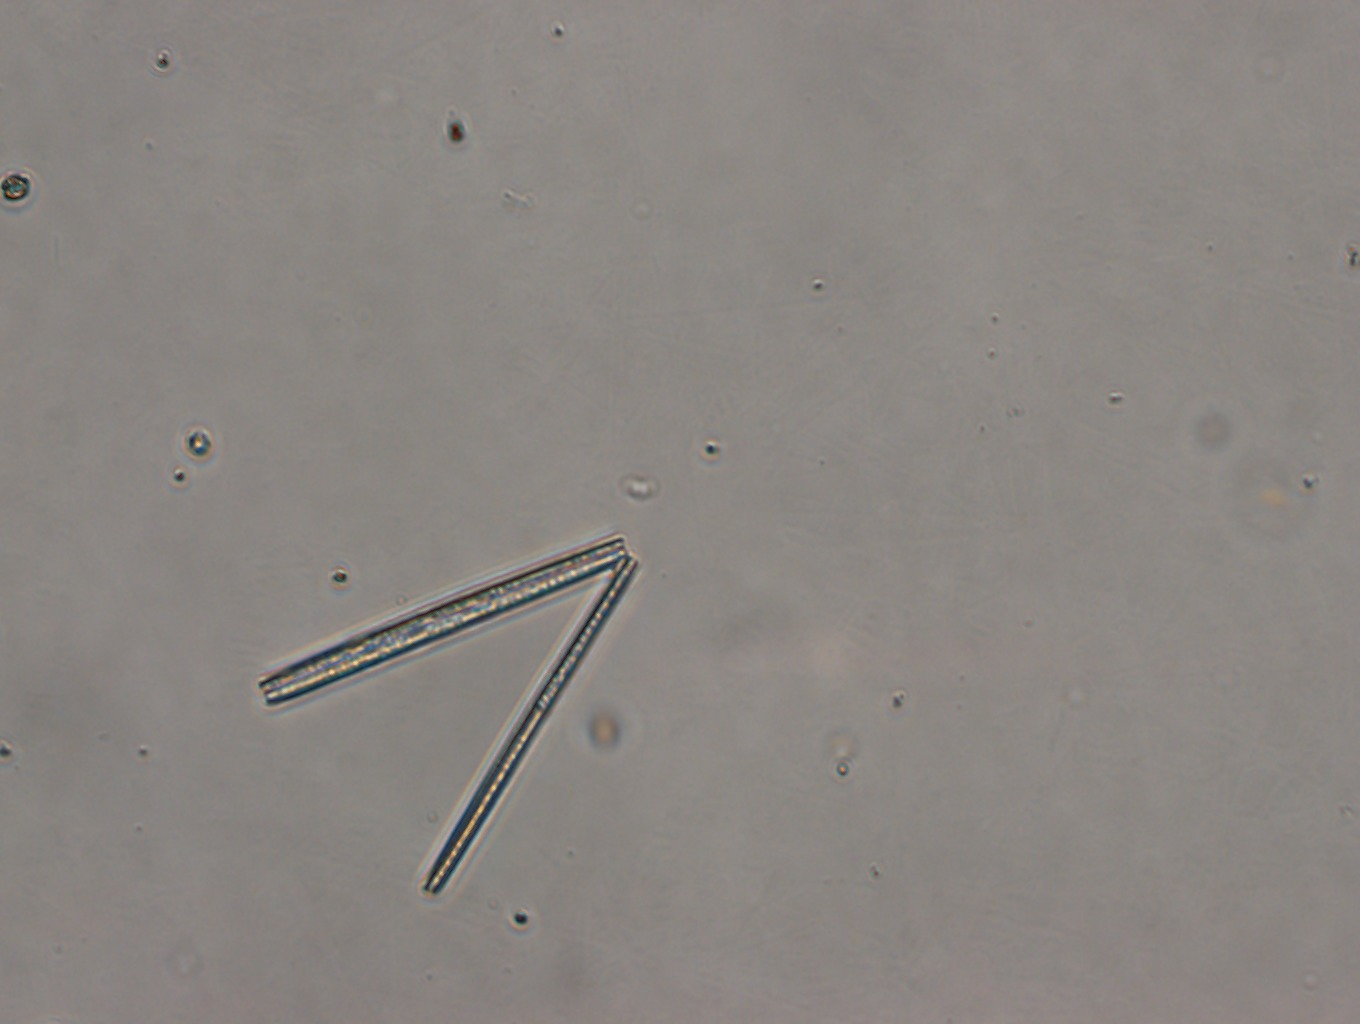thalassionema frauenfeldii: (250, 534, 647, 898)
